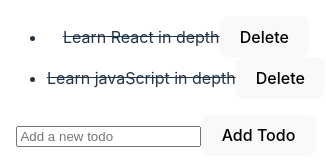
Test: deletes a todo item
Click the button "Delete" next to "Learn React in depth".
click(264, 37)  # box 220,16 -> 309,57
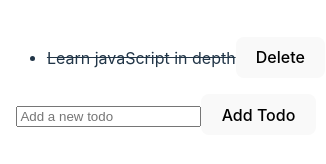
Result: the list item "Learn React in depth" is gone
